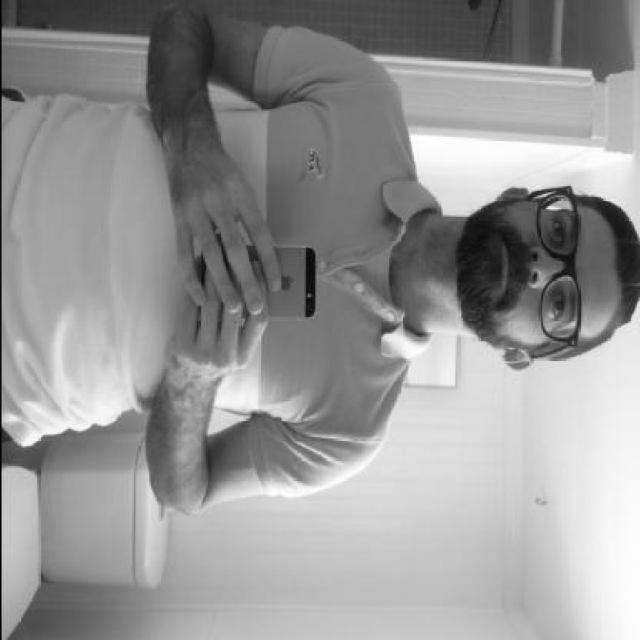fake: (204, 248, 314, 324)
